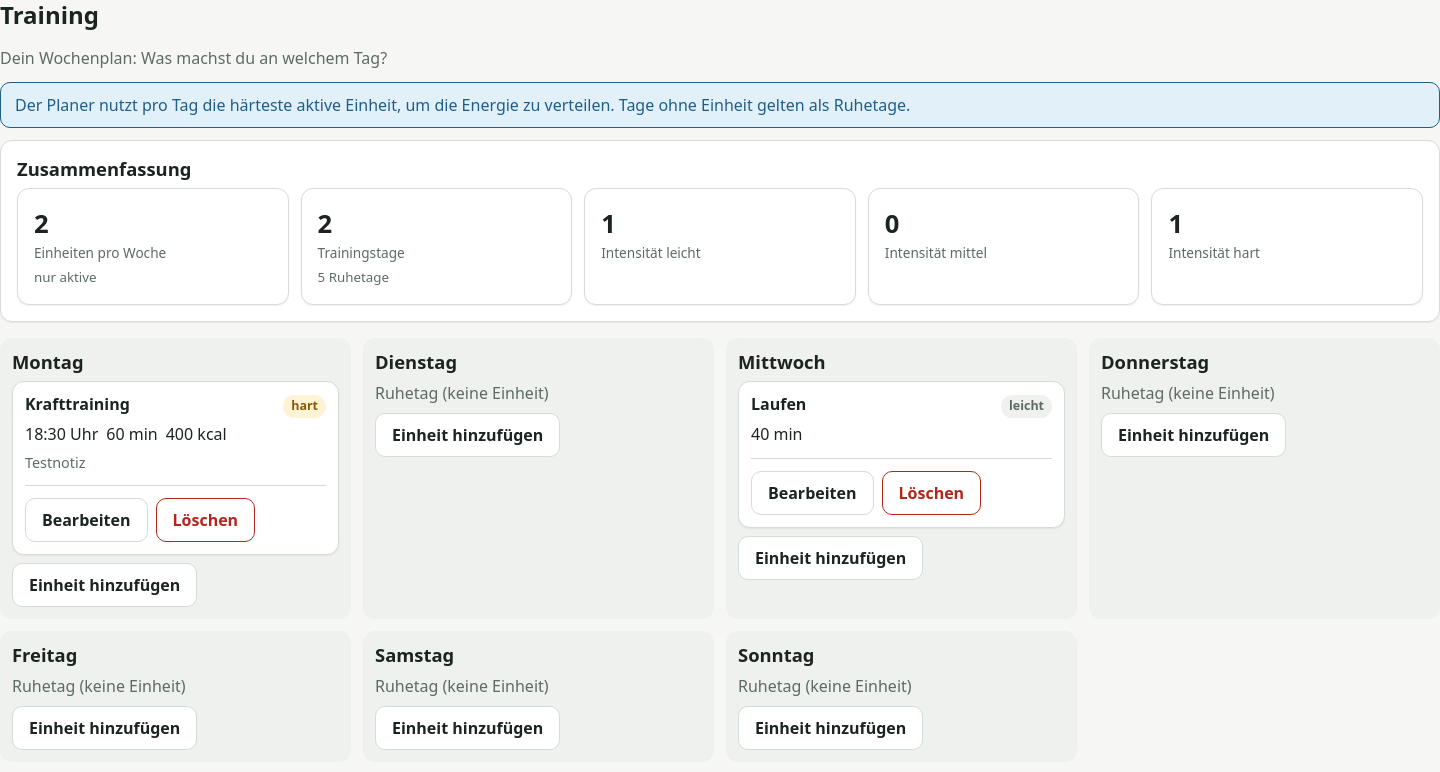
it: Trainingsplan › löscht nach Rückfrage
Click the button with aria-label "Laufen am Mittwoch löschen": (931, 493) left=882, top=471, right=981, bottom=515
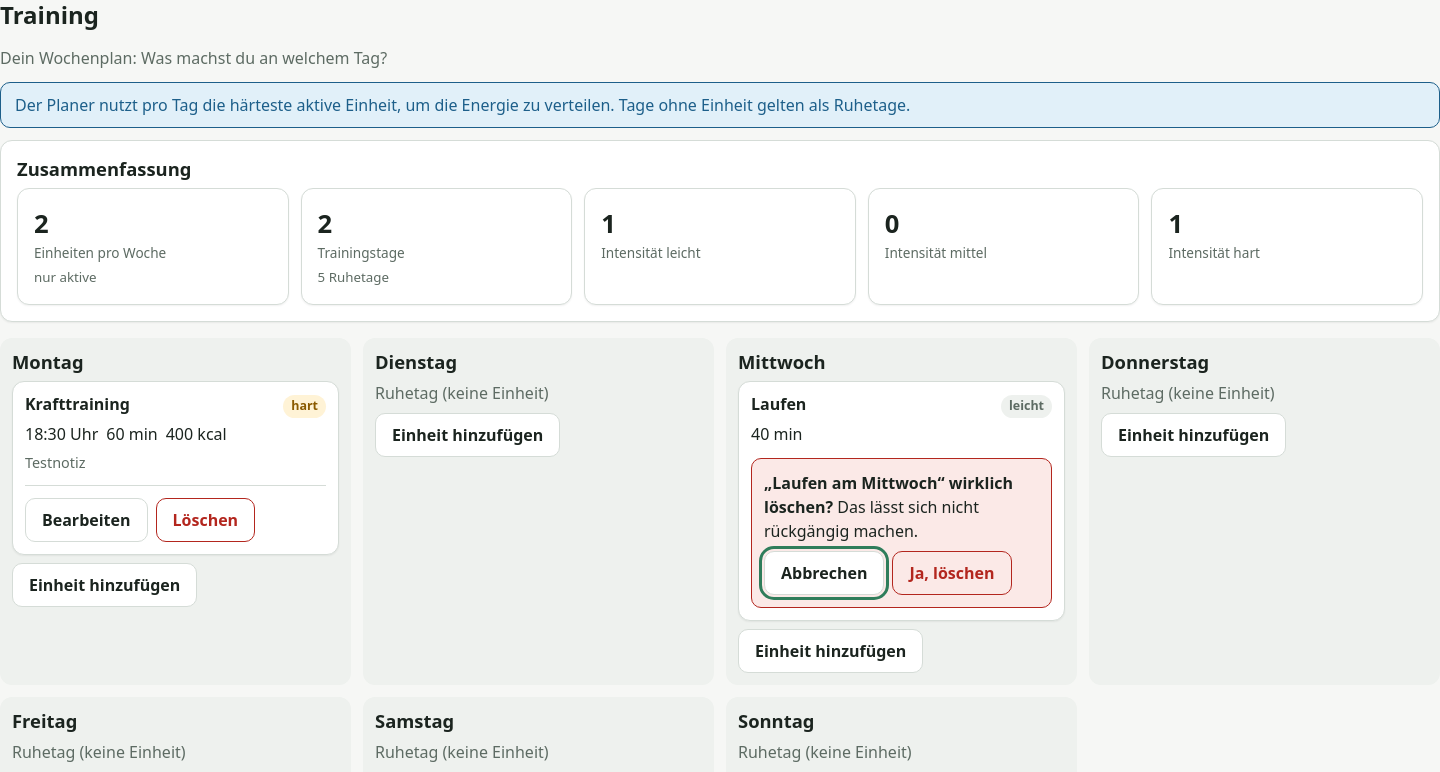
Check: the dialog shows "„Laufen am Mittwoch“ wirklich löschen?", box left=751, top=458, right=1052, bottom=608
Click the button "Ja, löschen": (952, 573) left=892, top=551, right=1012, bottom=595
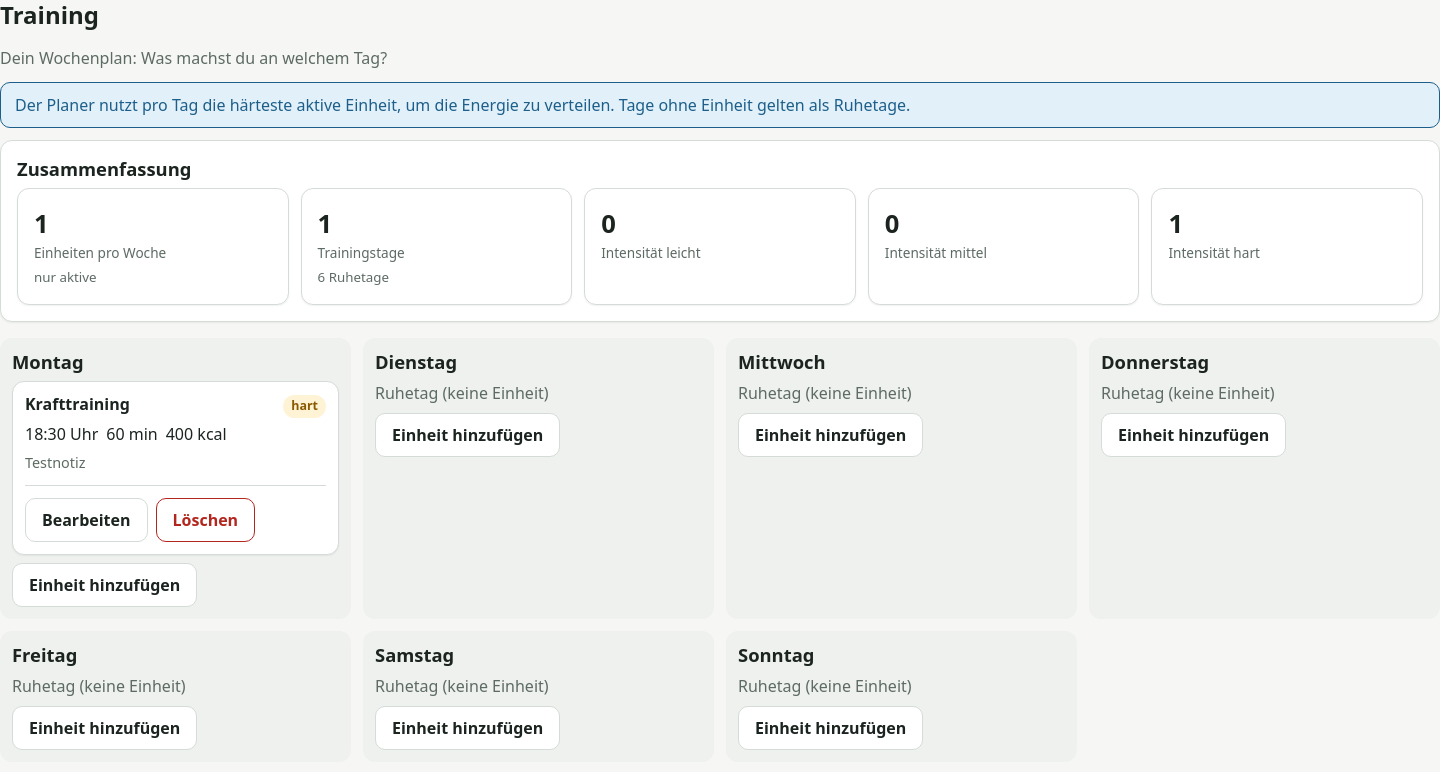
Check: the text "Ruhetag (keine Einheit)" below "Mittwoch" is shown, box left=738, top=382, right=912, bottom=404
